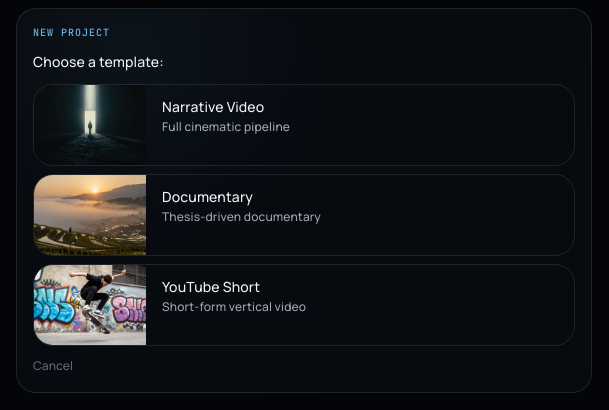
NewProjectInline › skips style selection for templates without styles
What coordinates should you click on to do the following:
click the text "YouTube Short"
I would click on:
 (211, 286)
Its box is [162,277,260,296].
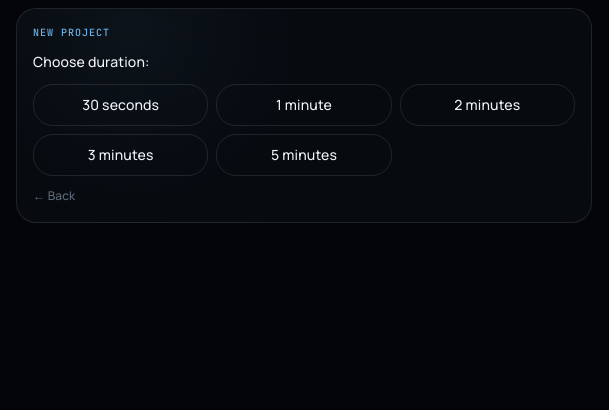
Expected: the text "30 seconds" is shown, [82,95,159,114]
Expected: the text "1 minute" is shown, [276,95,332,114]
